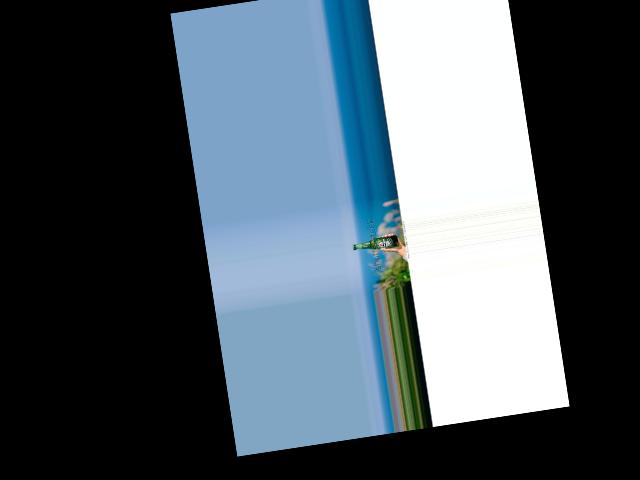beer: (352, 234, 399, 252)
